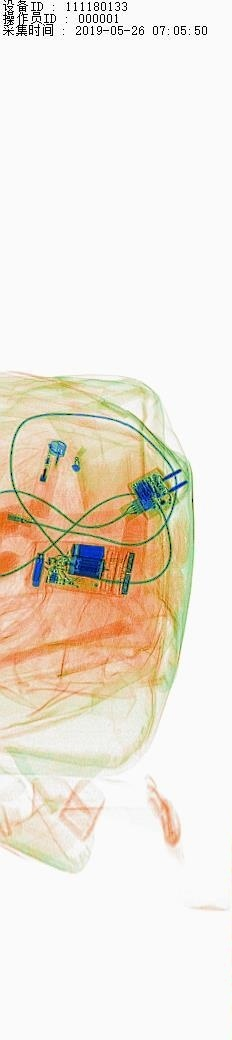NonmetallicFire: (19, 425, 81, 524)
